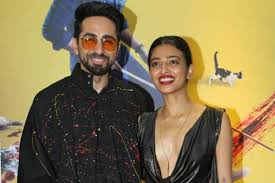Bad: (18, 1, 232, 183)
